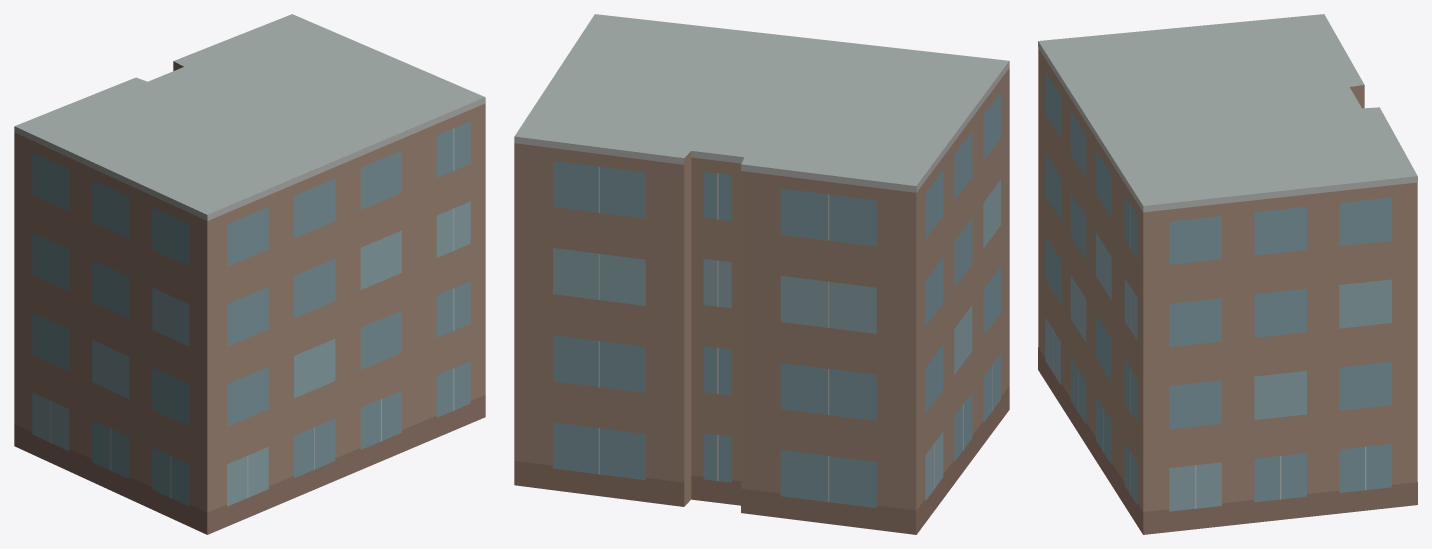
File: survey-upis-32975391.glb
The picture shows the model from 3 angles, left to right: view 1: azimuth 30°, elevation 25°; view 2: azimuth 150°, elevation 25°; view 3: azimuth 270°, elevation 25°; orthographic projection. The views are drawn at different scales.
Visible parts, largest first — view 1: survey-upis-32975391.tmp; view 2: survey-upis-32975391.tmp; view 3: survey-upis-32975391.tmp.
Boxes of the visible parts, x1=… form: survey-upis-32975391.tmp: x1=14, y1=14, x2=485, y2=534; survey-upis-32975391.tmp: x1=514, y1=14, x2=1009, y2=534; survey-upis-32975391.tmp: x1=1038, y1=14, x2=1417, y2=534.
Size of the model in its own units: 16.05 by 12.8 by 13.41.
